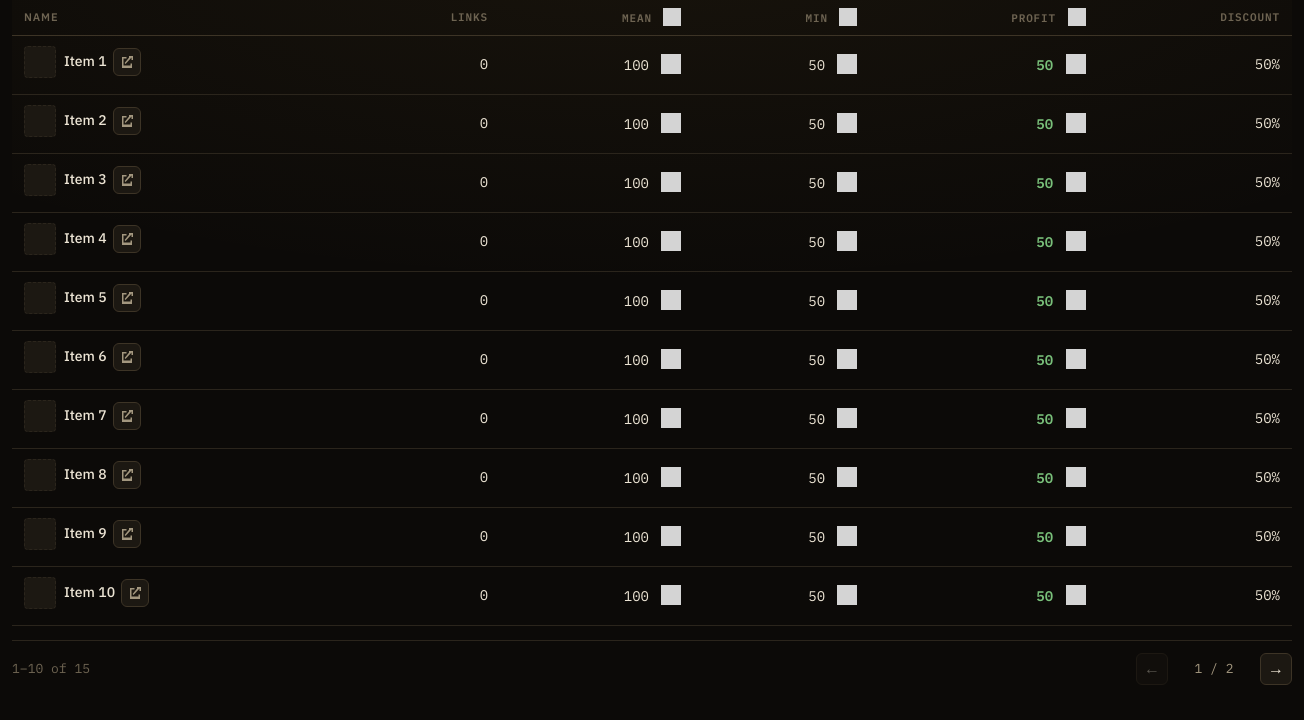
SnipePanel › paginates snipes and shows the next page on click
Expected: the text "Item 1" is shown, [64, 51, 107, 72]
Expected: the text "Item 10" is shown, [64, 582, 115, 603]
Click the button named "Next page": (1276, 668) [1260, 652, 1292, 684]
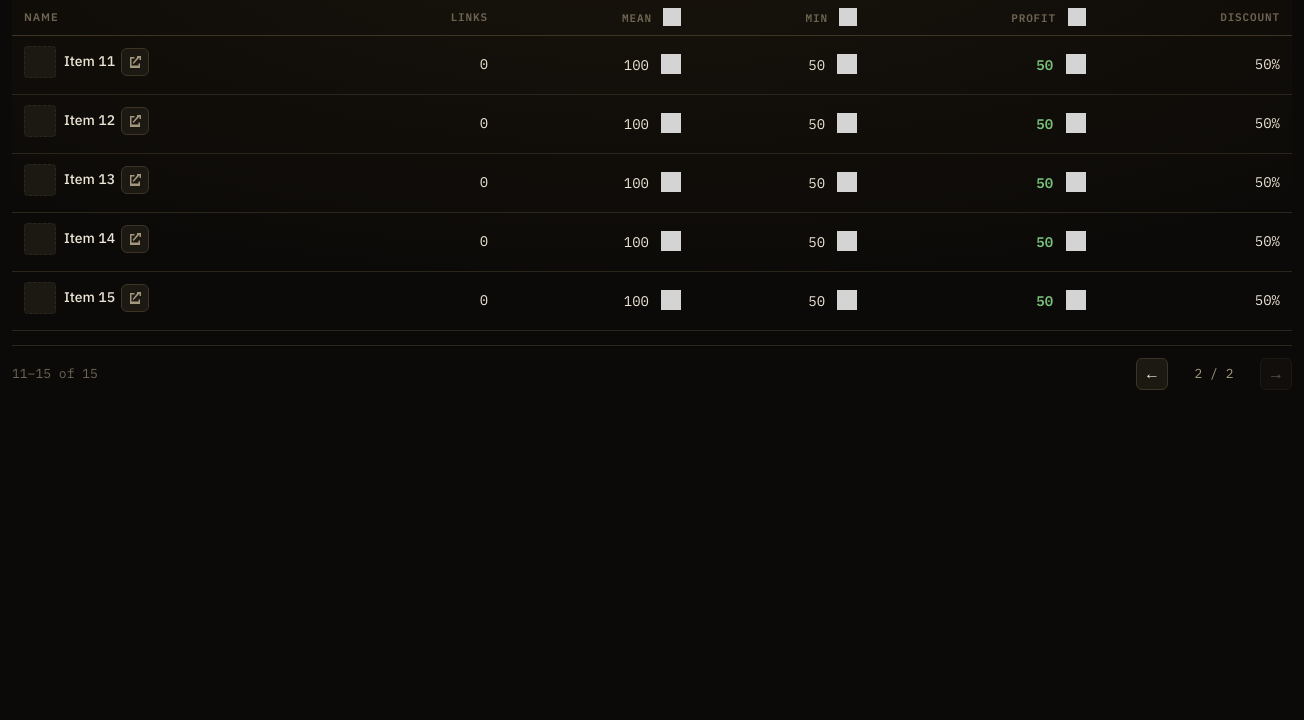
Expected: the text "Item 11" is shown, [64, 51, 115, 72]
Expected: the text "Item 15" is shown, [64, 287, 115, 308]
Expected: the text "11–15 of 15" is shown, [12, 364, 98, 383]
